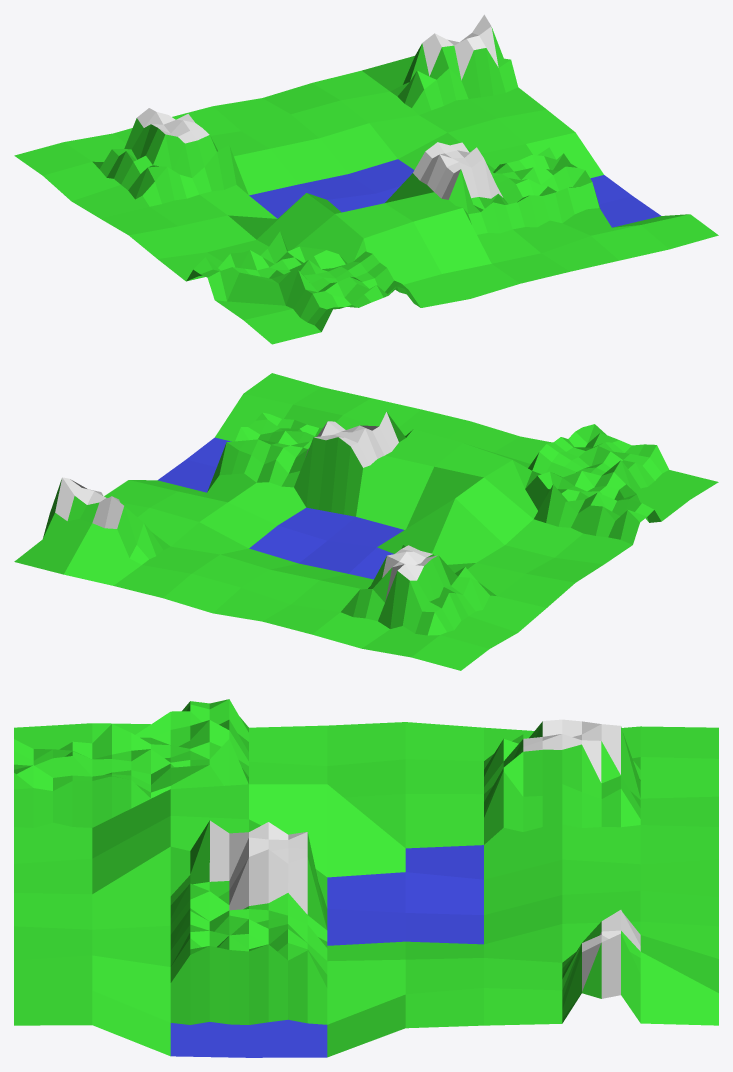
Rendered from ground.fbx.
3 views of the same model, one above another, from view 1: azimuth 30°, elevation 25°; view 2: azimuth 150°, elevation 25°; view 3: azimuth 270°, elevation 25° (orthographic). The views are drawn at different scales.
Parts seen in each view (by area): view 1: ground; view 2: ground; view 3: ground.
Boxes of the visible parts, left/top/right/bottom form: ground: left=14, top=14, right=718, bottom=344; ground: left=14, top=373, right=718, bottom=670; ground: left=14, top=699, right=718, bottom=1057.
Size of the model in its own units: 6000 by 1094 by 6000.
